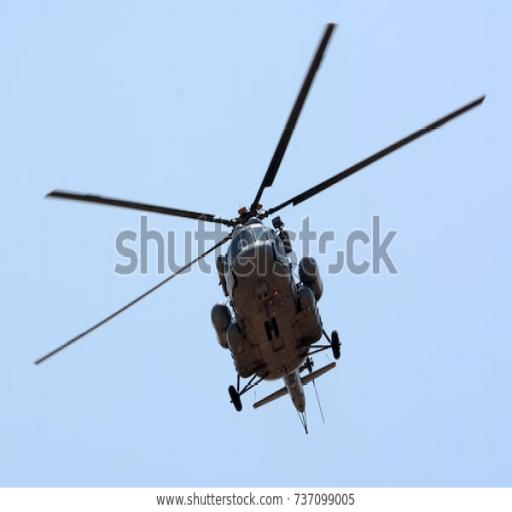helicopter: (42, 28, 486, 436)
